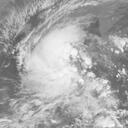cyclone: (35, 33, 103, 95)
